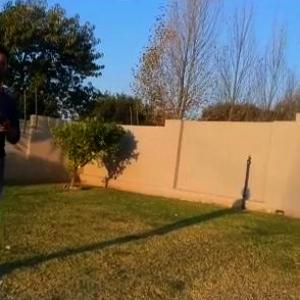follow: (0, 38, 25, 286)
